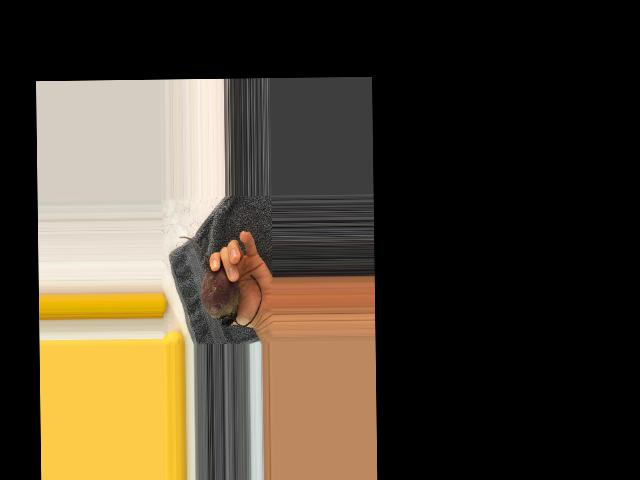beet: (179, 235, 262, 326)
